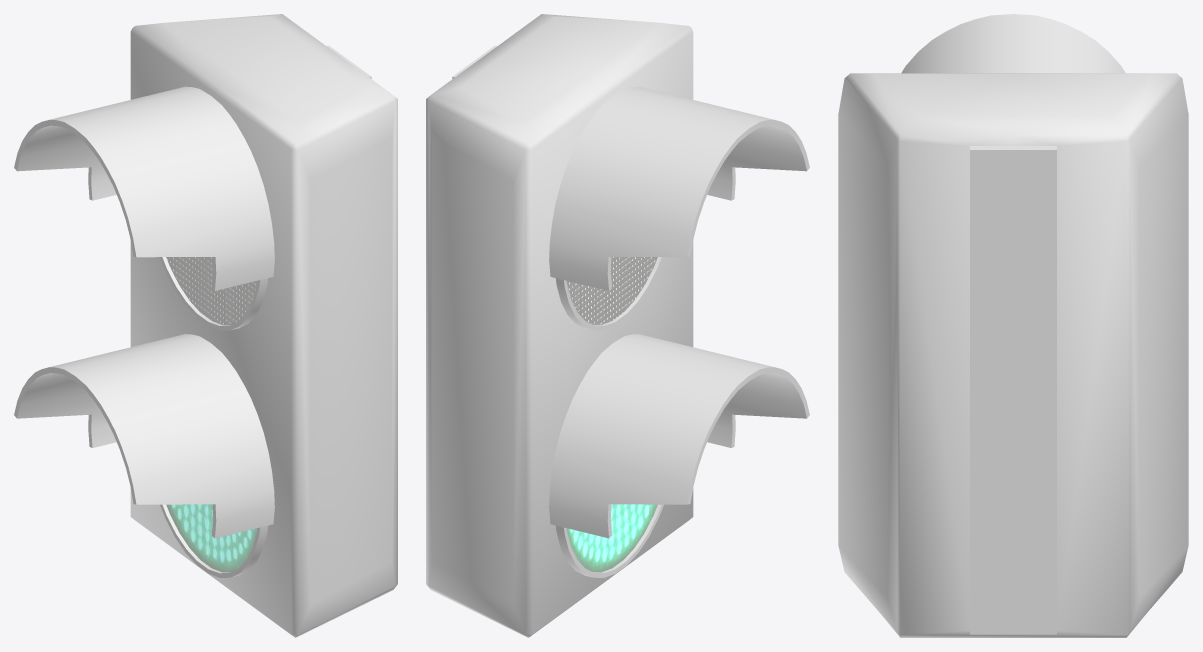
Rendered from 双色指示灯_GreenLight.glb.
3 renders of one model, left to right at view 1: azimuth 30°, elevation 25°; view 2: azimuth 150°, elevation 25°; view 3: azimuth 270°, elevation 25°, orthographic.
Parts seen in each view (by area): view 1: 双色指示灯_GreenLight; view 2: 双色指示灯_GreenLight; view 3: 双色指示灯_GreenLight.
Part boxes in pixels (x1,y1,x2,y2): 双色指示灯_GreenLight: [14, 14, 397, 637]; 双色指示灯_GreenLight: [426, 14, 809, 637]; 双色指示灯_GreenLight: [838, 14, 1188, 637].
Size of the model in its own units: 0.6001 by 1.06 by 0.65.
3 materials, 2 textured.
